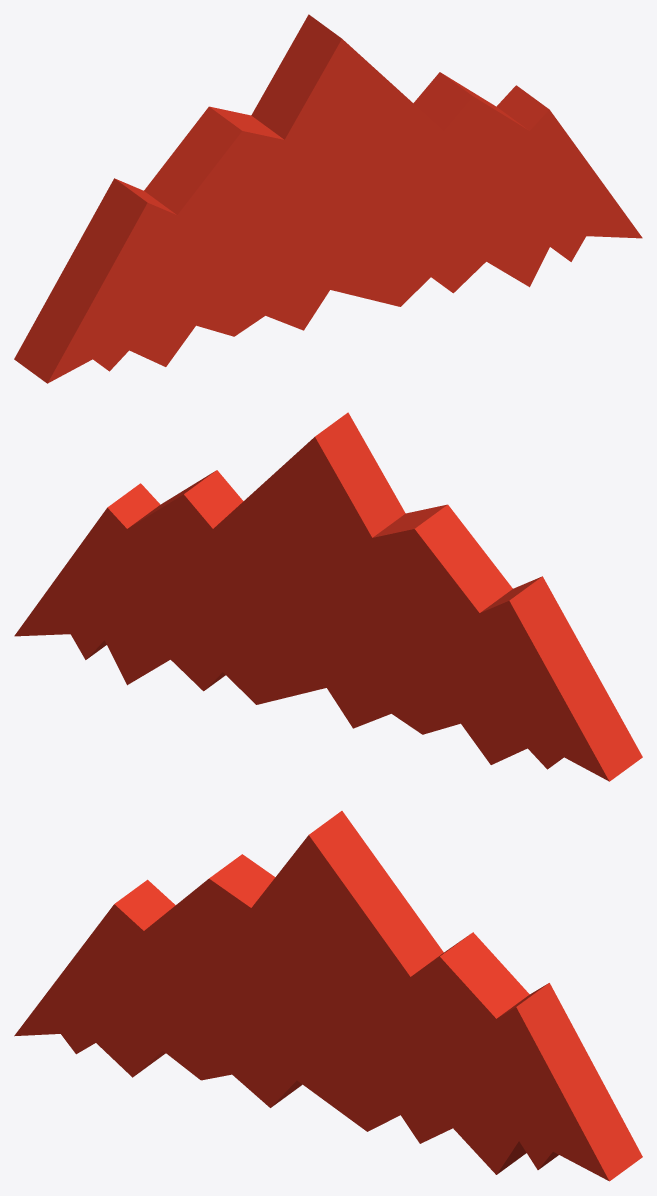
Rendered from Icon_Iceberg.fbx.
3 views of the same model, one above another, from view 1: azimuth 30°, elevation 25°; view 2: azimuth 150°, elevation 25°; view 3: azimuth 330°, elevation 25° (orthographic).
Parts seen in each view (by area): view 1: Icon_Iceberg; view 2: Icon_Iceberg; view 3: Icon_Iceberg.
Boxes of the visible parts, x1=… form: Icon_Iceberg: x1=14, y1=14, x2=642, y2=383; Icon_Iceberg: x1=14, y1=412, x2=642, y2=781; Icon_Iceberg: x1=14, y1=811, x2=642, y2=1181.
Size of the model in its own units: 124 by 58.72 by 12.06.
